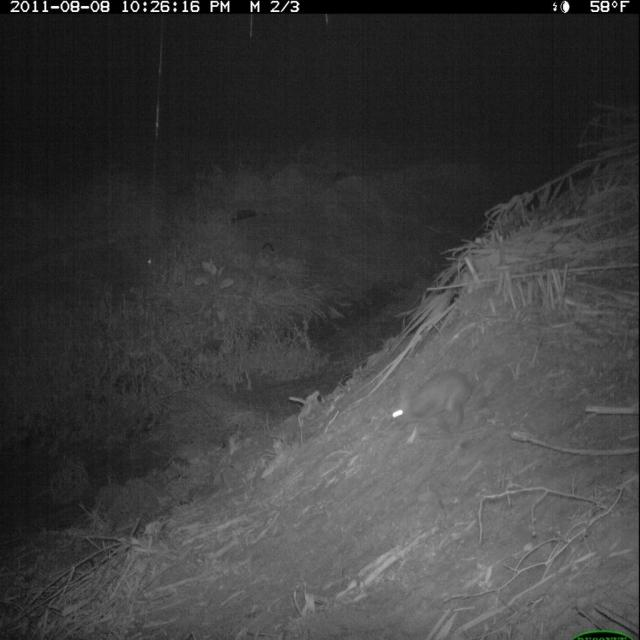rabbit: (384, 363, 479, 448)
